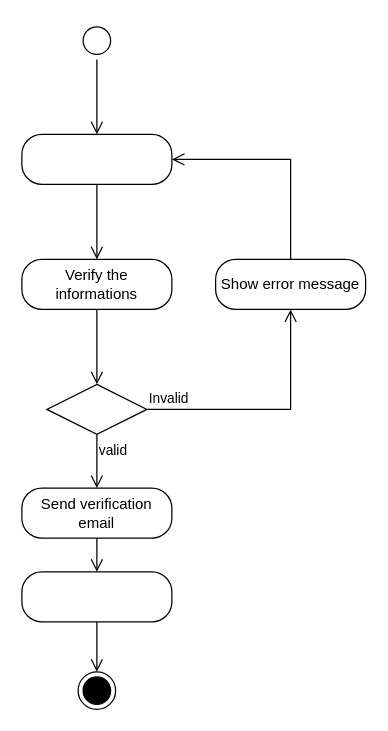
This 388x731 diagram has some shape labels left out. Here are the shapes that lost their labels. From the top down, the centre of each, then its label:
At [96,158]: "Enter required informations".
At [96,596]: "Verify the account".
